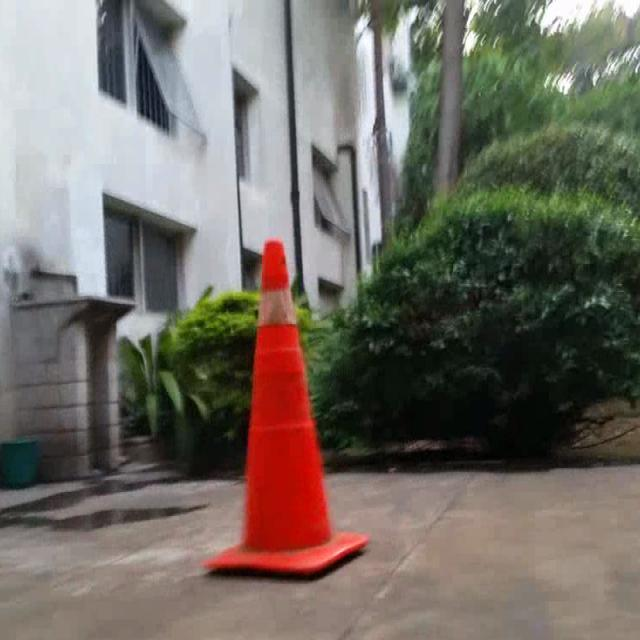cone: (211, 238, 366, 570)
